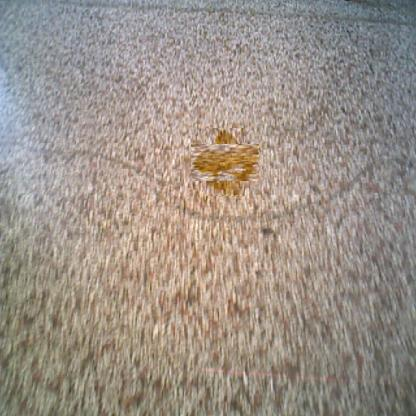liquid: (198, 136, 252, 188)
